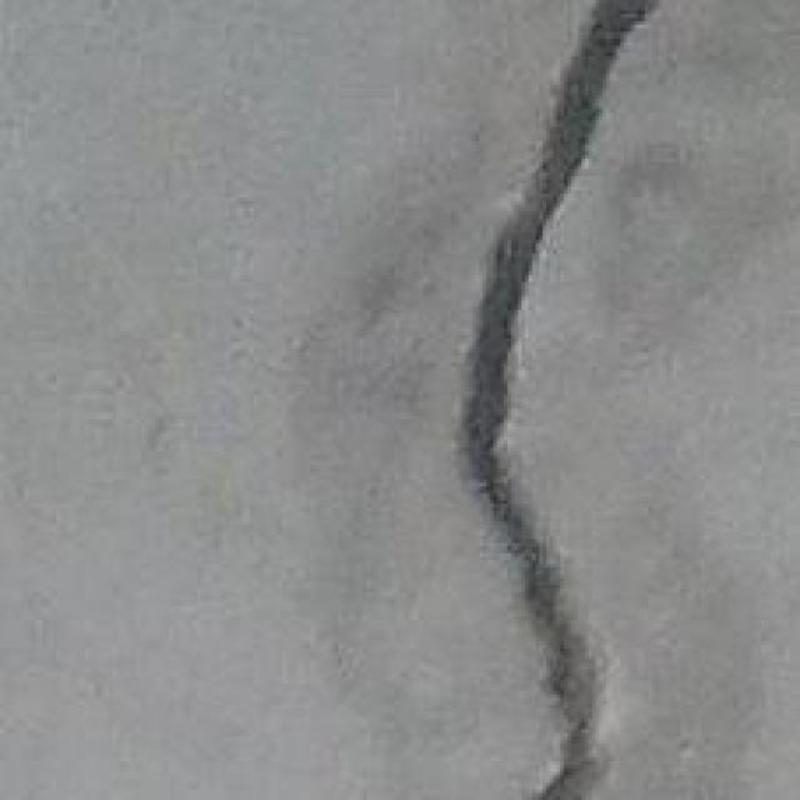crack: (460, 0, 658, 799)
